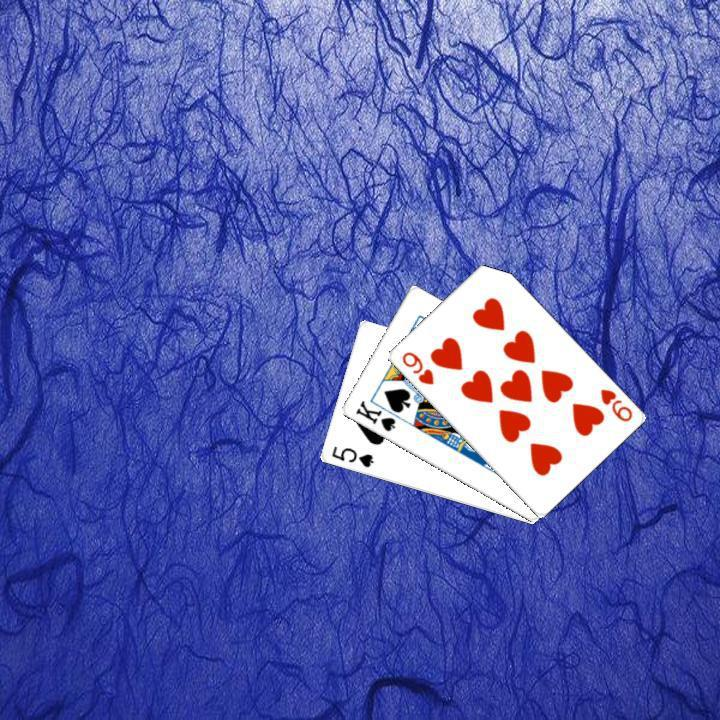5: (327, 442, 375, 470)
9: (595, 384, 634, 424), (397, 347, 435, 387)
K: (351, 396, 397, 434)
